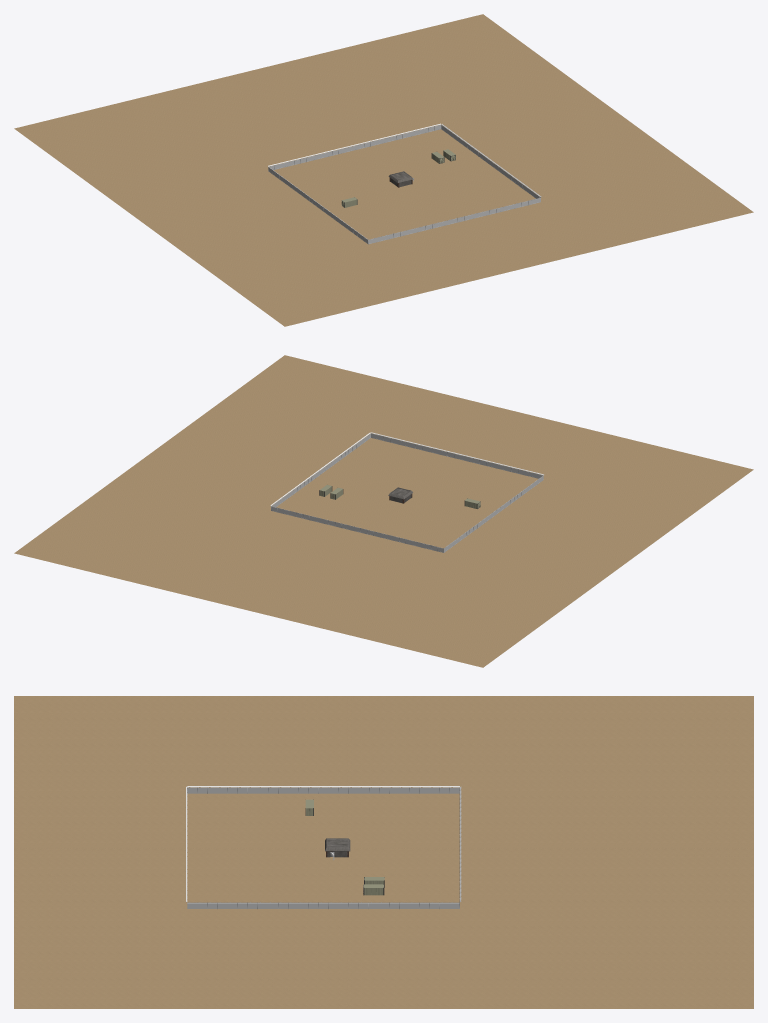
The model's file is Eviorment M5.fbx.
3 views of the same model, one above another, from view 1: azimuth 30°, elevation 25°; view 2: azimuth 150°, elevation 25°; view 3: azimuth 270°, elevation 25° (orthographic). The views are drawn at different scales.
Parts seen in each view (by area): view 1: Plane, fence with barbwire, fence with barbwire.004, fence with barbwire.002, fence with barbwire.006; view 2: Plane, fence with barbwire.004, fence with barbwire, fence with barbwire.002, fence with barbwire.006; view 3: Plane, fence with barbwire.006, fence with barbwire.002.
Part boxes in pixels (x1,y1,x2,y2): Plane: [14, 14, 753, 326]; fence with barbwire: [268, 123, 441, 171]; fence with barbwire.004: [368, 197, 540, 244]; fence with barbwire.002: [441, 124, 541, 198]; fence with barbwire.006: [268, 166, 368, 244]; Plane: [14, 355, 753, 667]; fence with barbwire.004: [371, 432, 543, 478]; fence with barbwire: [271, 506, 443, 552]; fence with barbwire.002: [270, 432, 370, 510]; fence with barbwire.006: [444, 475, 543, 552]; Plane: [14, 696, 753, 1008]; fence with barbwire.006: [187, 786, 459, 793]; fence with barbwire.002: [187, 902, 459, 908].
Bounding box in the file's own units: 66062 × 3237 × 66062.
